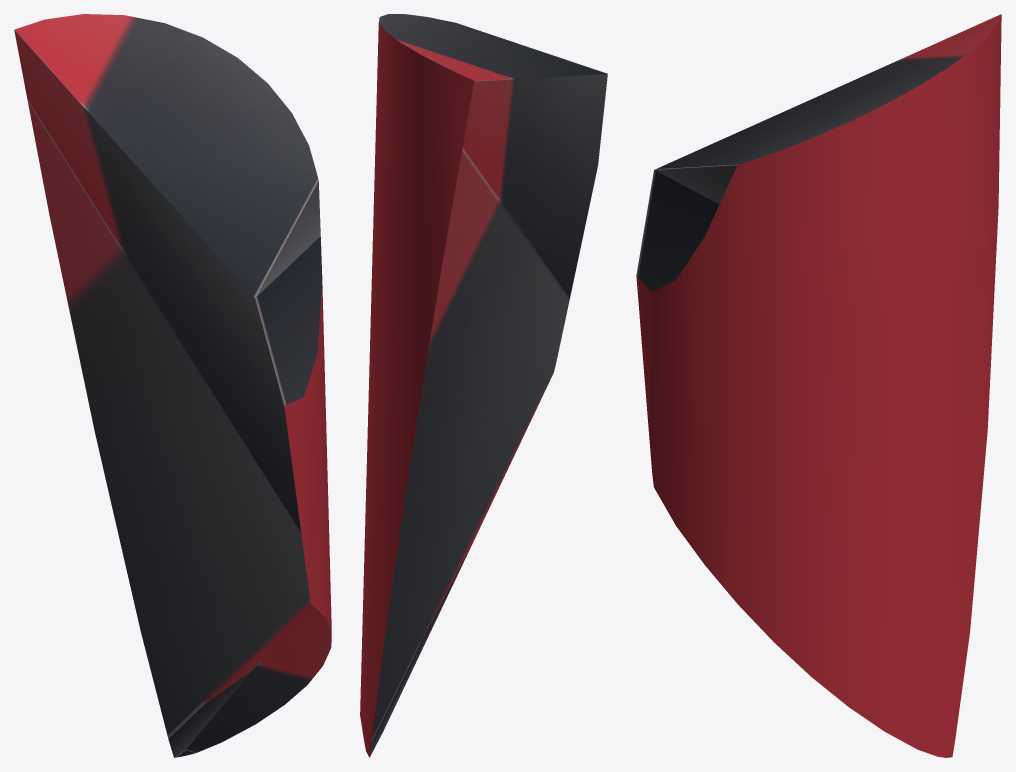
The model's file is torii_broken_039.obj.
3 views of the same model, side by side, from view 1: azimuth 30°, elevation 25°; view 2: azimuth 150°, elevation 25°; view 3: azimuth 270°, elevation 25° (orthographic). The views are drawn at different scales.
Visible parts, largest first — view 1: 鳥居.001_cell.039_鳥居.001_cell.025; view 2: 鳥居.001_cell.039_鳥居.001_cell.025; view 3: 鳥居.001_cell.039_鳥居.001_cell.025.
Part boxes in pixels (left/top/right/bottom): 鳥居.001_cell.039_鳥居.001_cell.025: left=14, top=14, right=331, bottom=757; 鳥居.001_cell.039_鳥居.001_cell.025: left=360, top=14, right=607, bottom=757; 鳥居.001_cell.039_鳥居.001_cell.025: left=636, top=14, right=1001, bottom=757.
Bounding box in the file's own units: 0.1686 × 0.6345 × 0.3049.
Materials: 1 (1 with a texture image).
